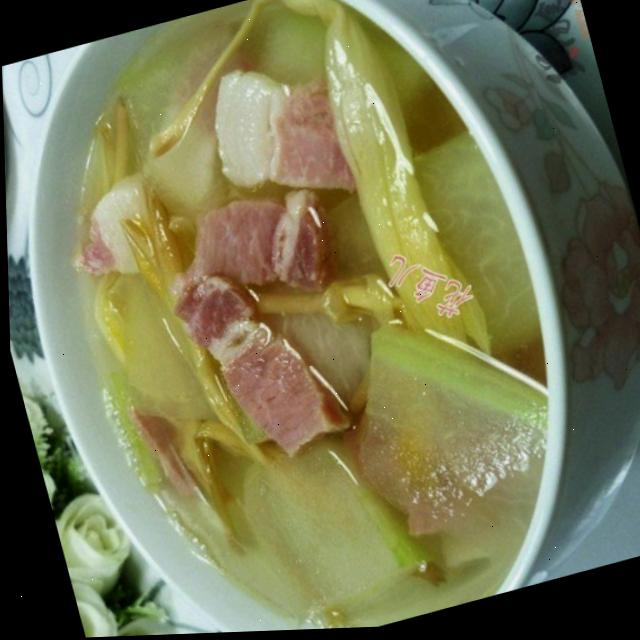汤锅炖物: (0, 0, 637, 640)
